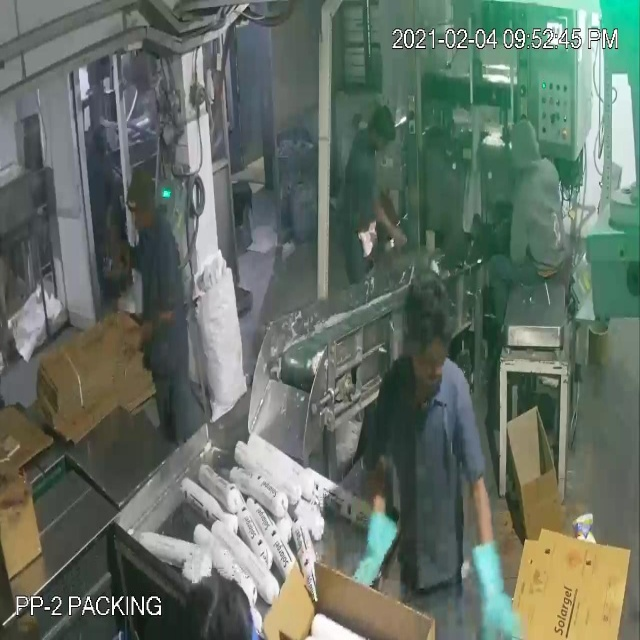Guantes: (459, 530, 534, 640), (349, 499, 408, 599)
Sin_guantes: (111, 295, 186, 372), (367, 184, 411, 265), (0, 449, 43, 520)
